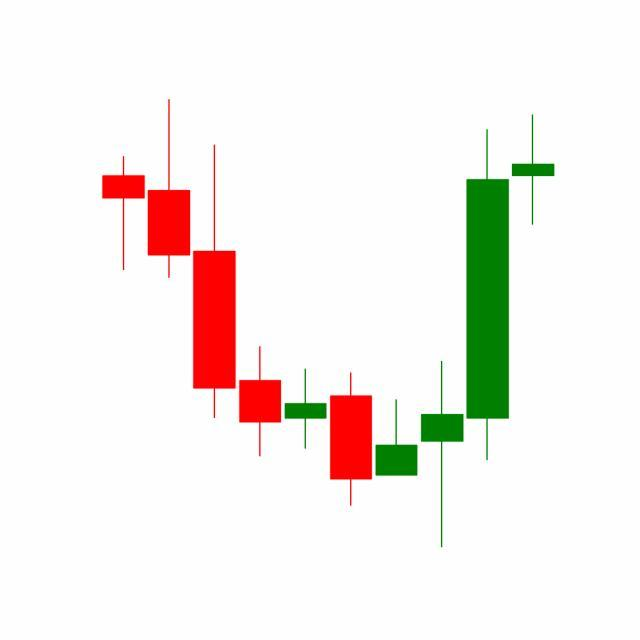Hikkake Pattern: (283, 125, 512, 548)
